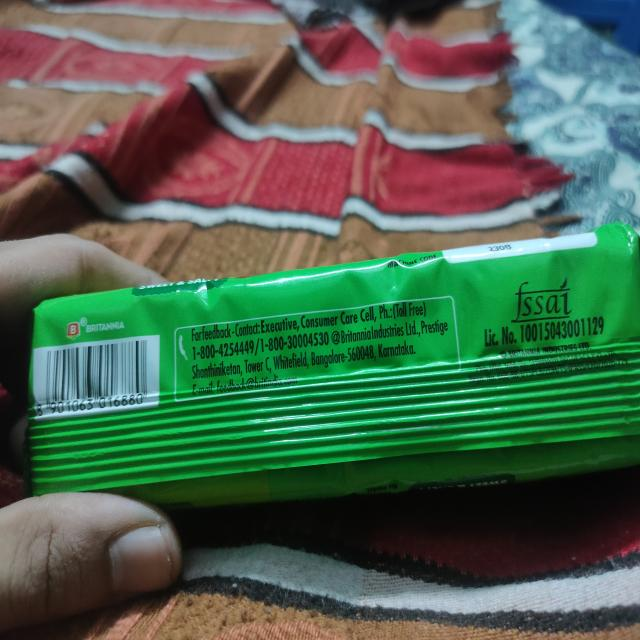50 50 biscuit: (30, 223, 640, 506)
